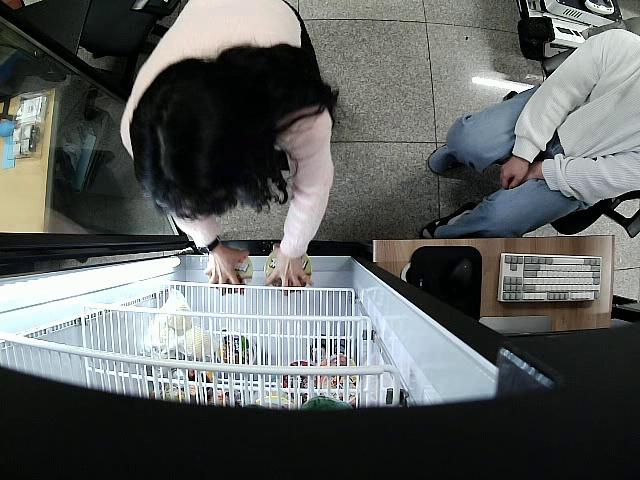00_hand: (204, 249, 247, 288), (269, 252, 311, 289)
03_chapagetti_L: (265, 249, 315, 284), (221, 260, 255, 294)
